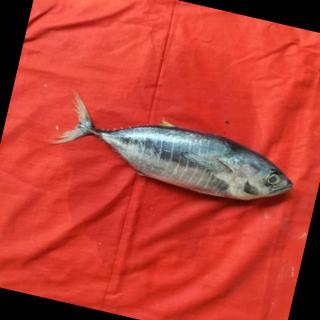Ikan: (39, 79, 317, 241)
